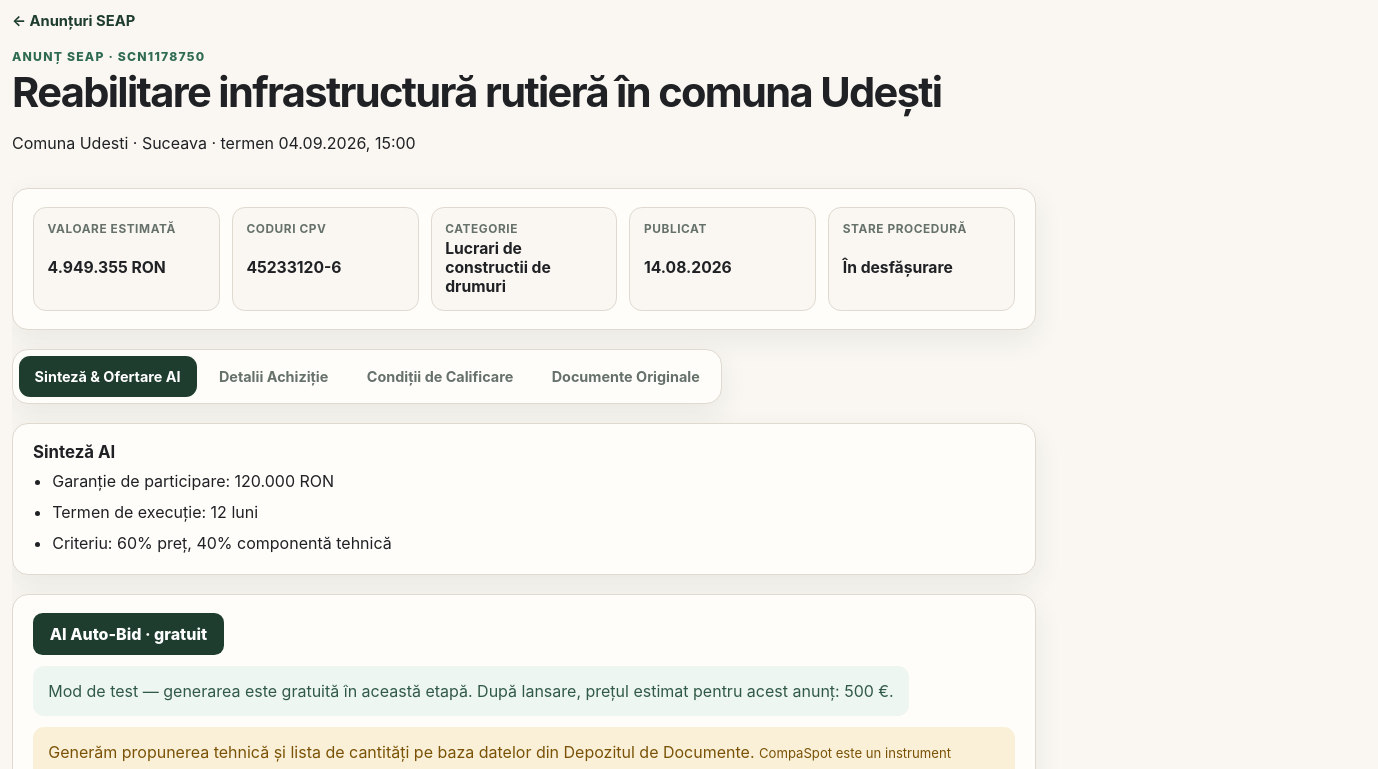
Test case: SeapTenderDetailComponent › opens the documents tab and resolves the published documents on demand
The image size is (1378, 769).
Click the tab "Documente Originale": (626, 376) [536,356,716,397]
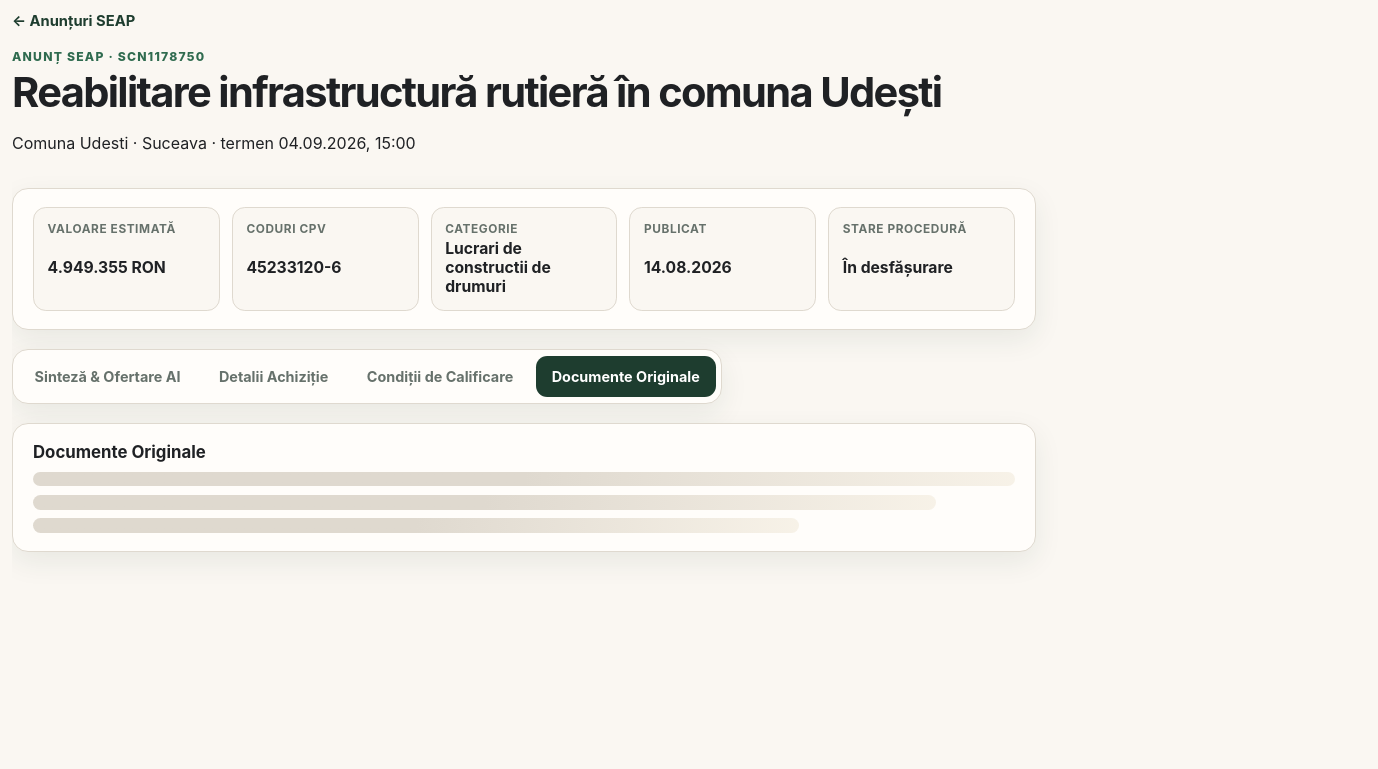
Expected: the message with class "skeleton" is shown, [33,472,1015,533]
